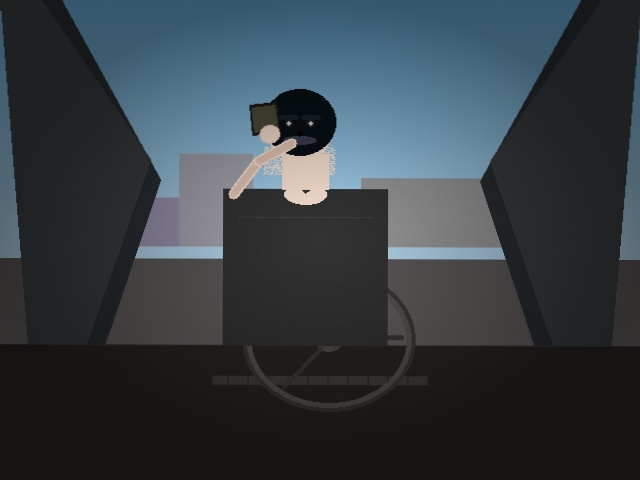phone_usage: (243, 96, 286, 142)
